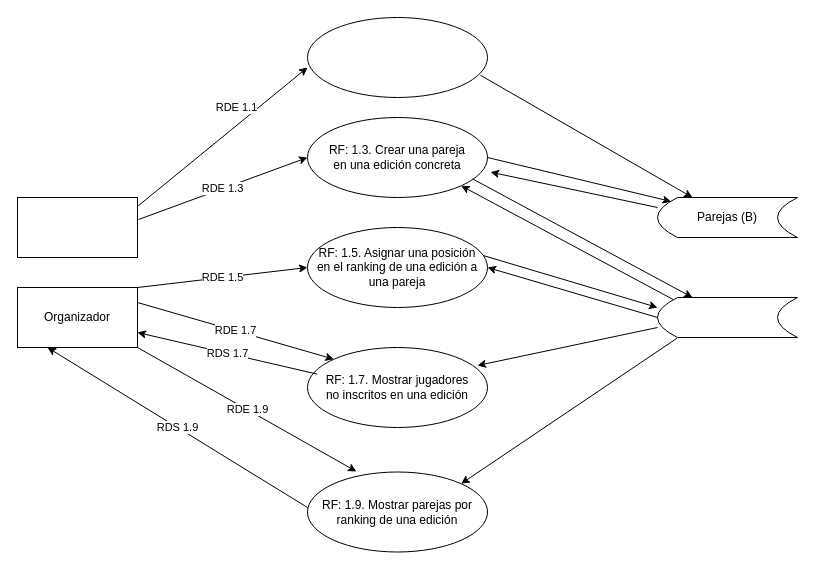
Image size: 815x570. Some labels were removed from this diagram. The centre of each missing label's shape, as x and y in pixels:
Ediciones (A): pixel 727 317
Jugador: pixel 77 227
RF: 1.1. Insertar un nuevo jugador: pixel 397 57
